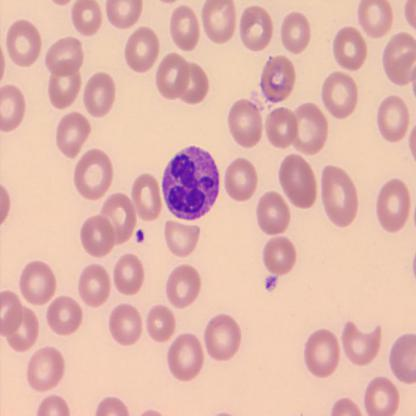Segmented neutrophil: (160, 144, 222, 221)
